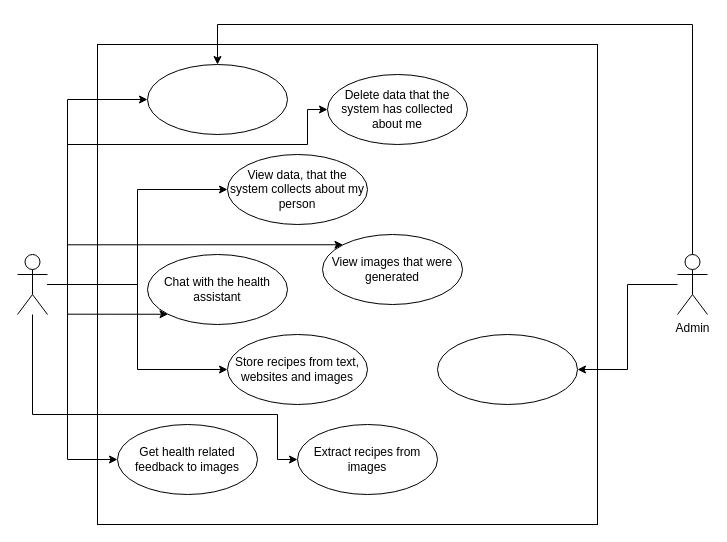
Some shapes in this 727 by 542 pixel diagram are drawn without their labels. The box of each missing label's shape, as (x1, y1, x2, y2) in pixels:
Login to the system: (146, 64, 288, 134)
Register new users: (436, 334, 578, 404)
User: (16, 254, 48, 314)
